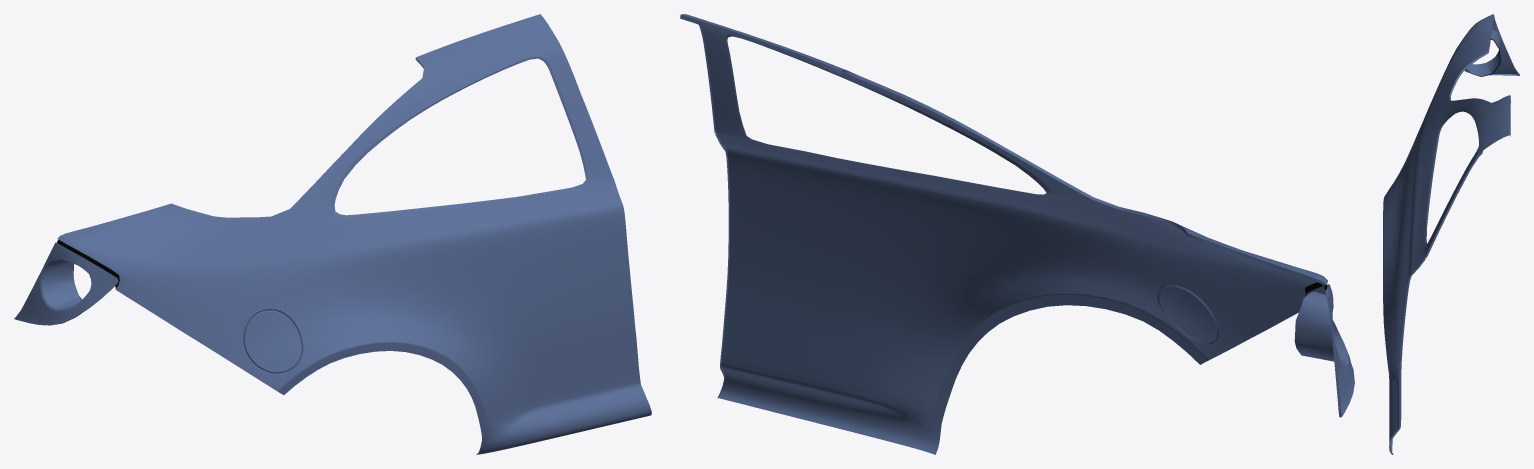
The picture shows the model from 3 angles, left to right: view 1: azimuth 30°, elevation 25°; view 2: azimuth 150°, elevation 25°; view 3: azimuth 270°, elevation 25°; orthographic projection. The views are drawn at different scales.
Visible parts, largest first — view 1: U236_17_401B_R_U236_17_401B_R_1_DaS, U236_17_401B_R_U236_17_401B_R_1_DaS_E, U236_17_401B_R_U236_17_401B_R_2_DaS; view 2: U236_17_401B_R_U236_17_401B_R_1_DaS, U236_17_401B_R_U236_17_401B_R_1_DaS_E, U236_17_401B_R_U236_17_401B_R_2_DaS; view 3: U236_17_401B_R_U236_17_401B_R_1_DaS, U236_17_401B_R_U236_17_401B_R_1_DaS_E, U236_17_401B_R_U236_17_401B_R_2_DaS.
Boxes of the visible parts, x1=… form: U236_17_401B_R_U236_17_401B_R_1_DaS: x1=57, y1=14, x2=651, y2=454; U236_17_401B_R_U236_17_401B_R_1_DaS_E: x1=169, y1=56, x2=588, y2=374; U236_17_401B_R_U236_17_401B_R_2_DaS: x1=14, y1=243, x2=117, y2=325; U236_17_401B_R_U236_17_401B_R_1_DaS: x1=681, y1=14, x2=1327, y2=454; U236_17_401B_R_U236_17_401B_R_1_DaS_E: x1=680, y1=14, x2=1325, y2=398; U236_17_401B_R_U236_17_401B_R_2_DaS: x1=1294, y1=286, x2=1354, y2=416; U236_17_401B_R_U236_17_401B_R_1_DaS: x1=1383, y1=14, x2=1510, y2=451; U236_17_401B_R_U236_17_401B_R_1_DaS_E: x1=1389, y1=16, x2=1510, y2=454; U236_17_401B_R_U236_17_401B_R_2_DaS: x1=1465, y1=18, x2=1518, y2=76.
Size of the model in its own units: 177 by 108 by 44.38.
